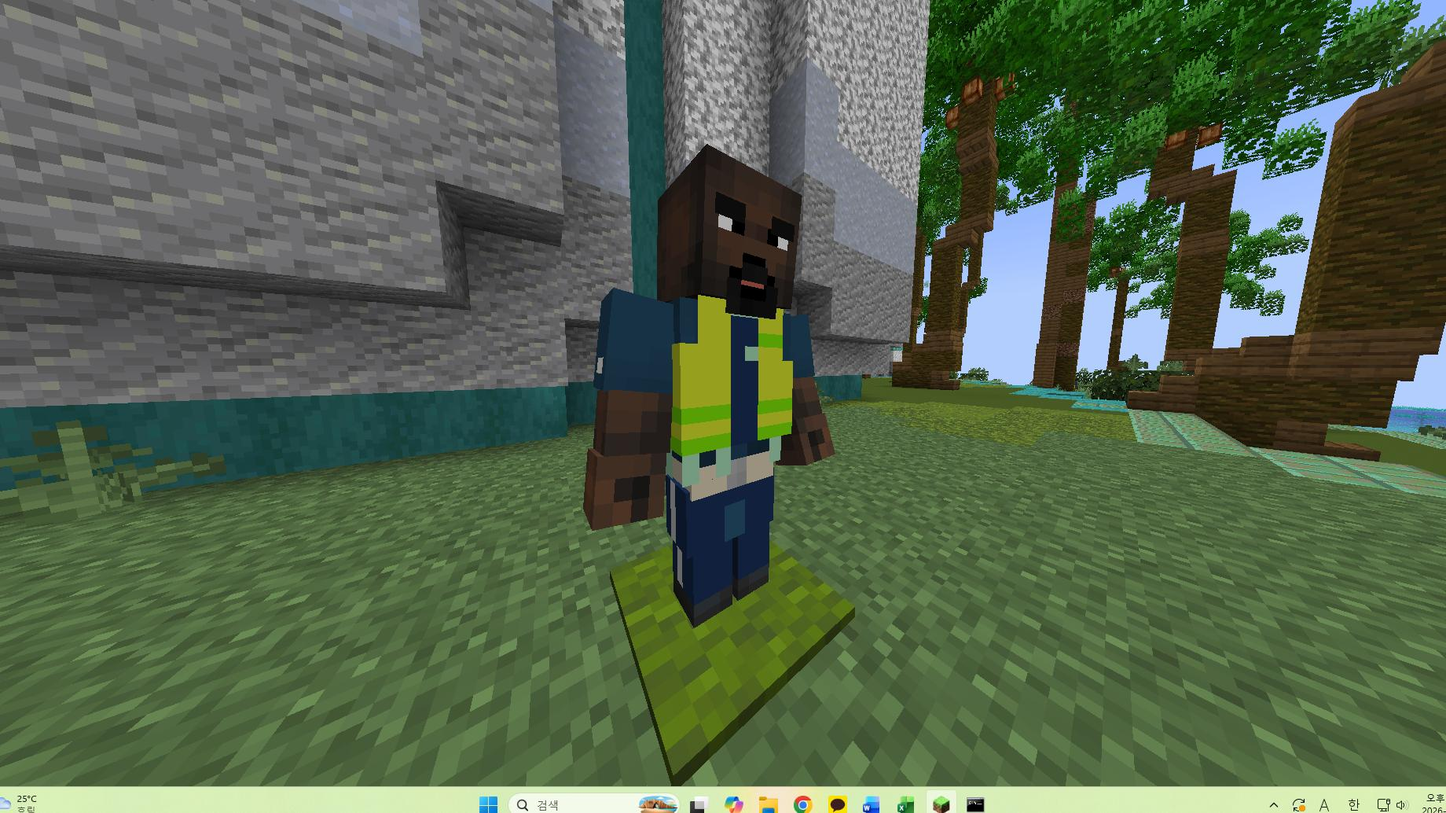Guardian: (584, 145, 833, 621)
